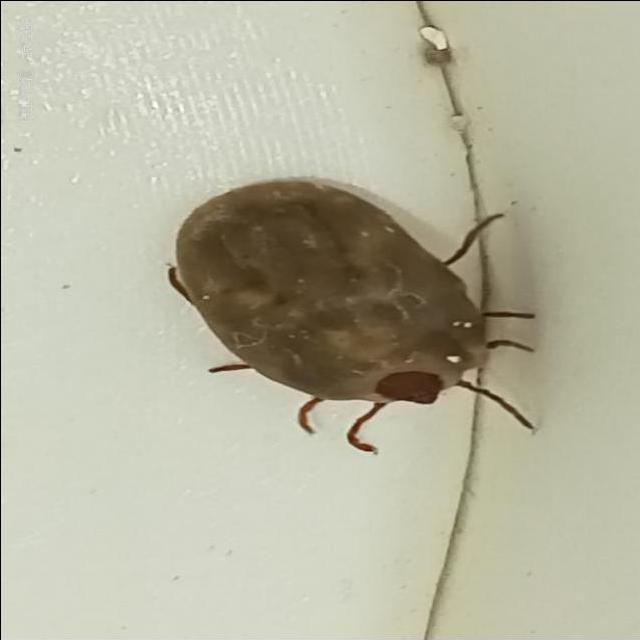Rhipicephalus Sanguineus-F-Fed: (163, 176, 533, 455)
